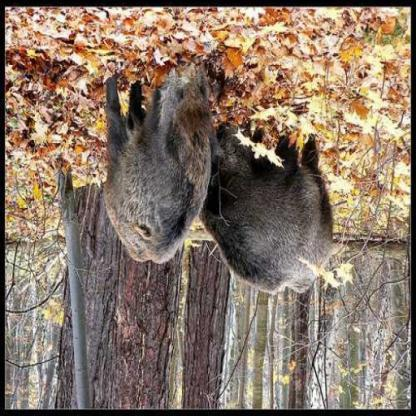boar: (175, 66, 407, 335), (86, 88, 216, 266)
